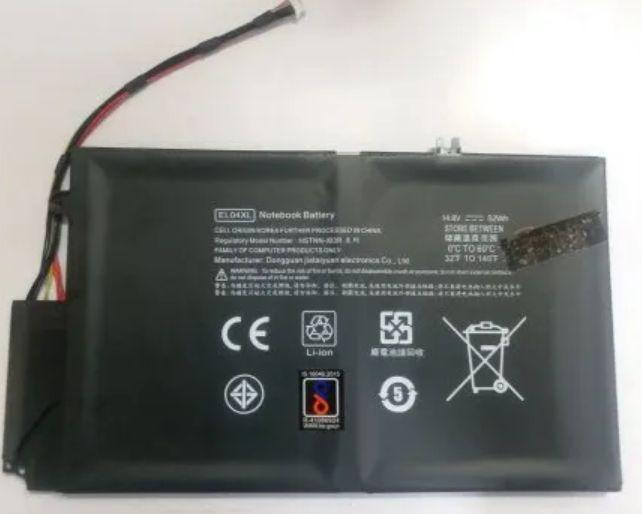battery: (5, 144, 624, 504)
